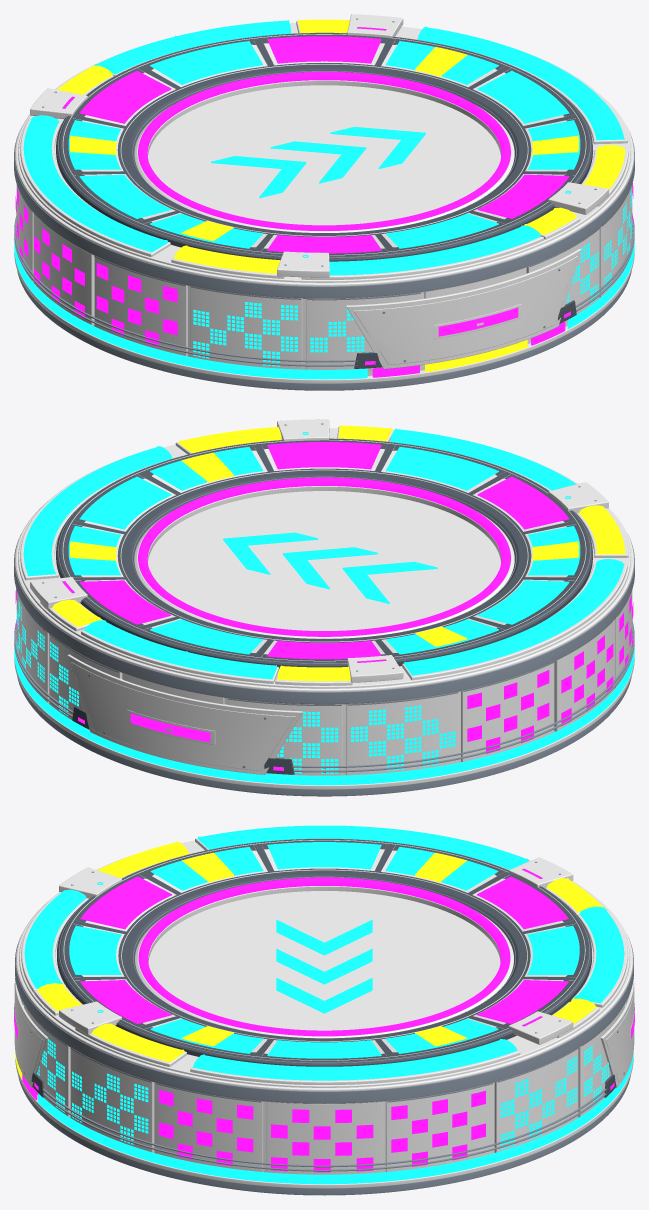
File: Slider.fbx
3 views of the same model, one above another, from view 1: azimuth 30°, elevation 25°; view 2: azimuth 150°, elevation 25°; view 3: azimuth 270°, elevation 25° (orthographic).
Visible parts, largest first — view 1: SM_Puck_Slider_RetroArcade; view 2: SM_Puck_Slider_RetroArcade; view 3: SM_Puck_Slider_RetroArcade.
Boxes of the visible parts, x1,y1,x2,y2 form: SM_Puck_Slider_RetroArcade: [14, 14, 634, 390]; SM_Puck_Slider_RetroArcade: [14, 419, 634, 796]; SM_Puck_Slider_RetroArcade: [14, 825, 634, 1195].
Size of the model in its own units: 90 by 90.28 by 20.
